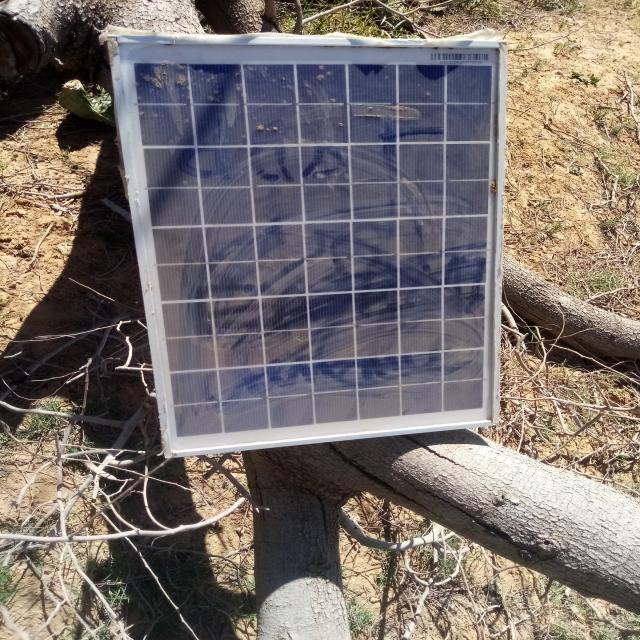faulty: (115, 38, 505, 455)
